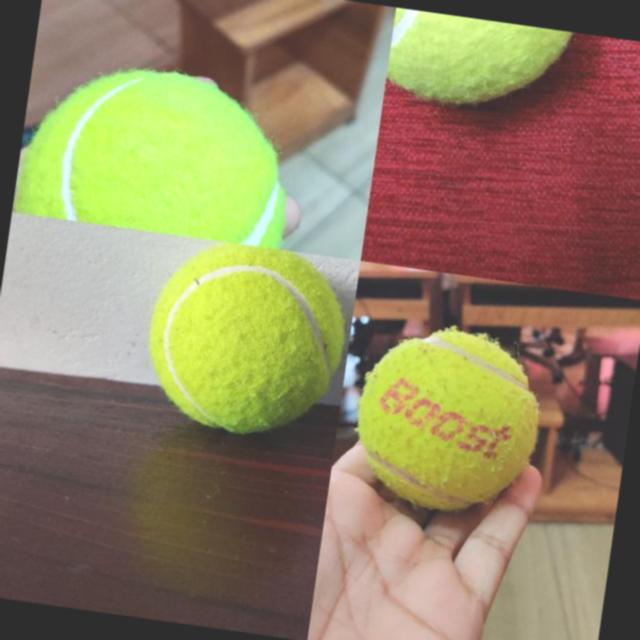tennis-ball: (15, 54, 304, 249), (135, 233, 358, 449), (346, 317, 549, 520), (384, 8, 576, 121)
